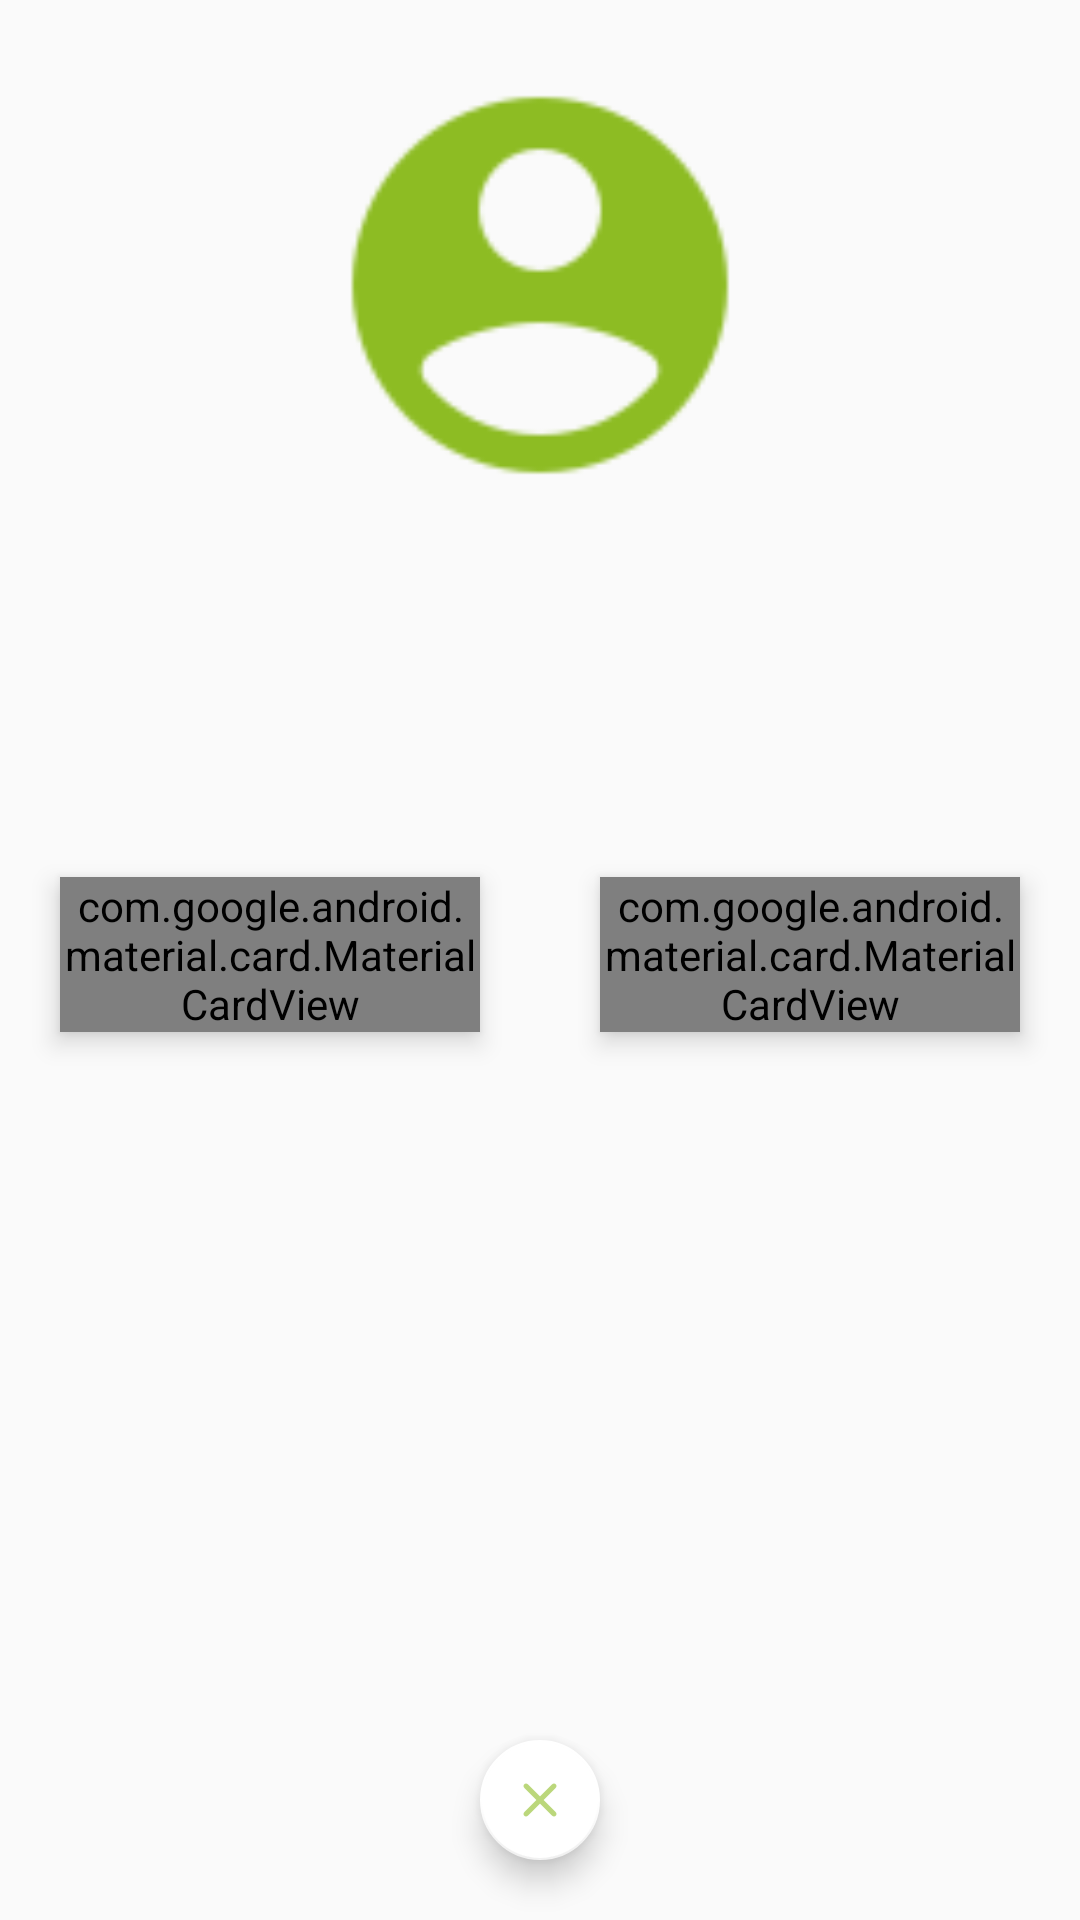

Point at icon controls on the screen. Image size 1080 × 1920, points as (x,y).
close: (540,1821)
